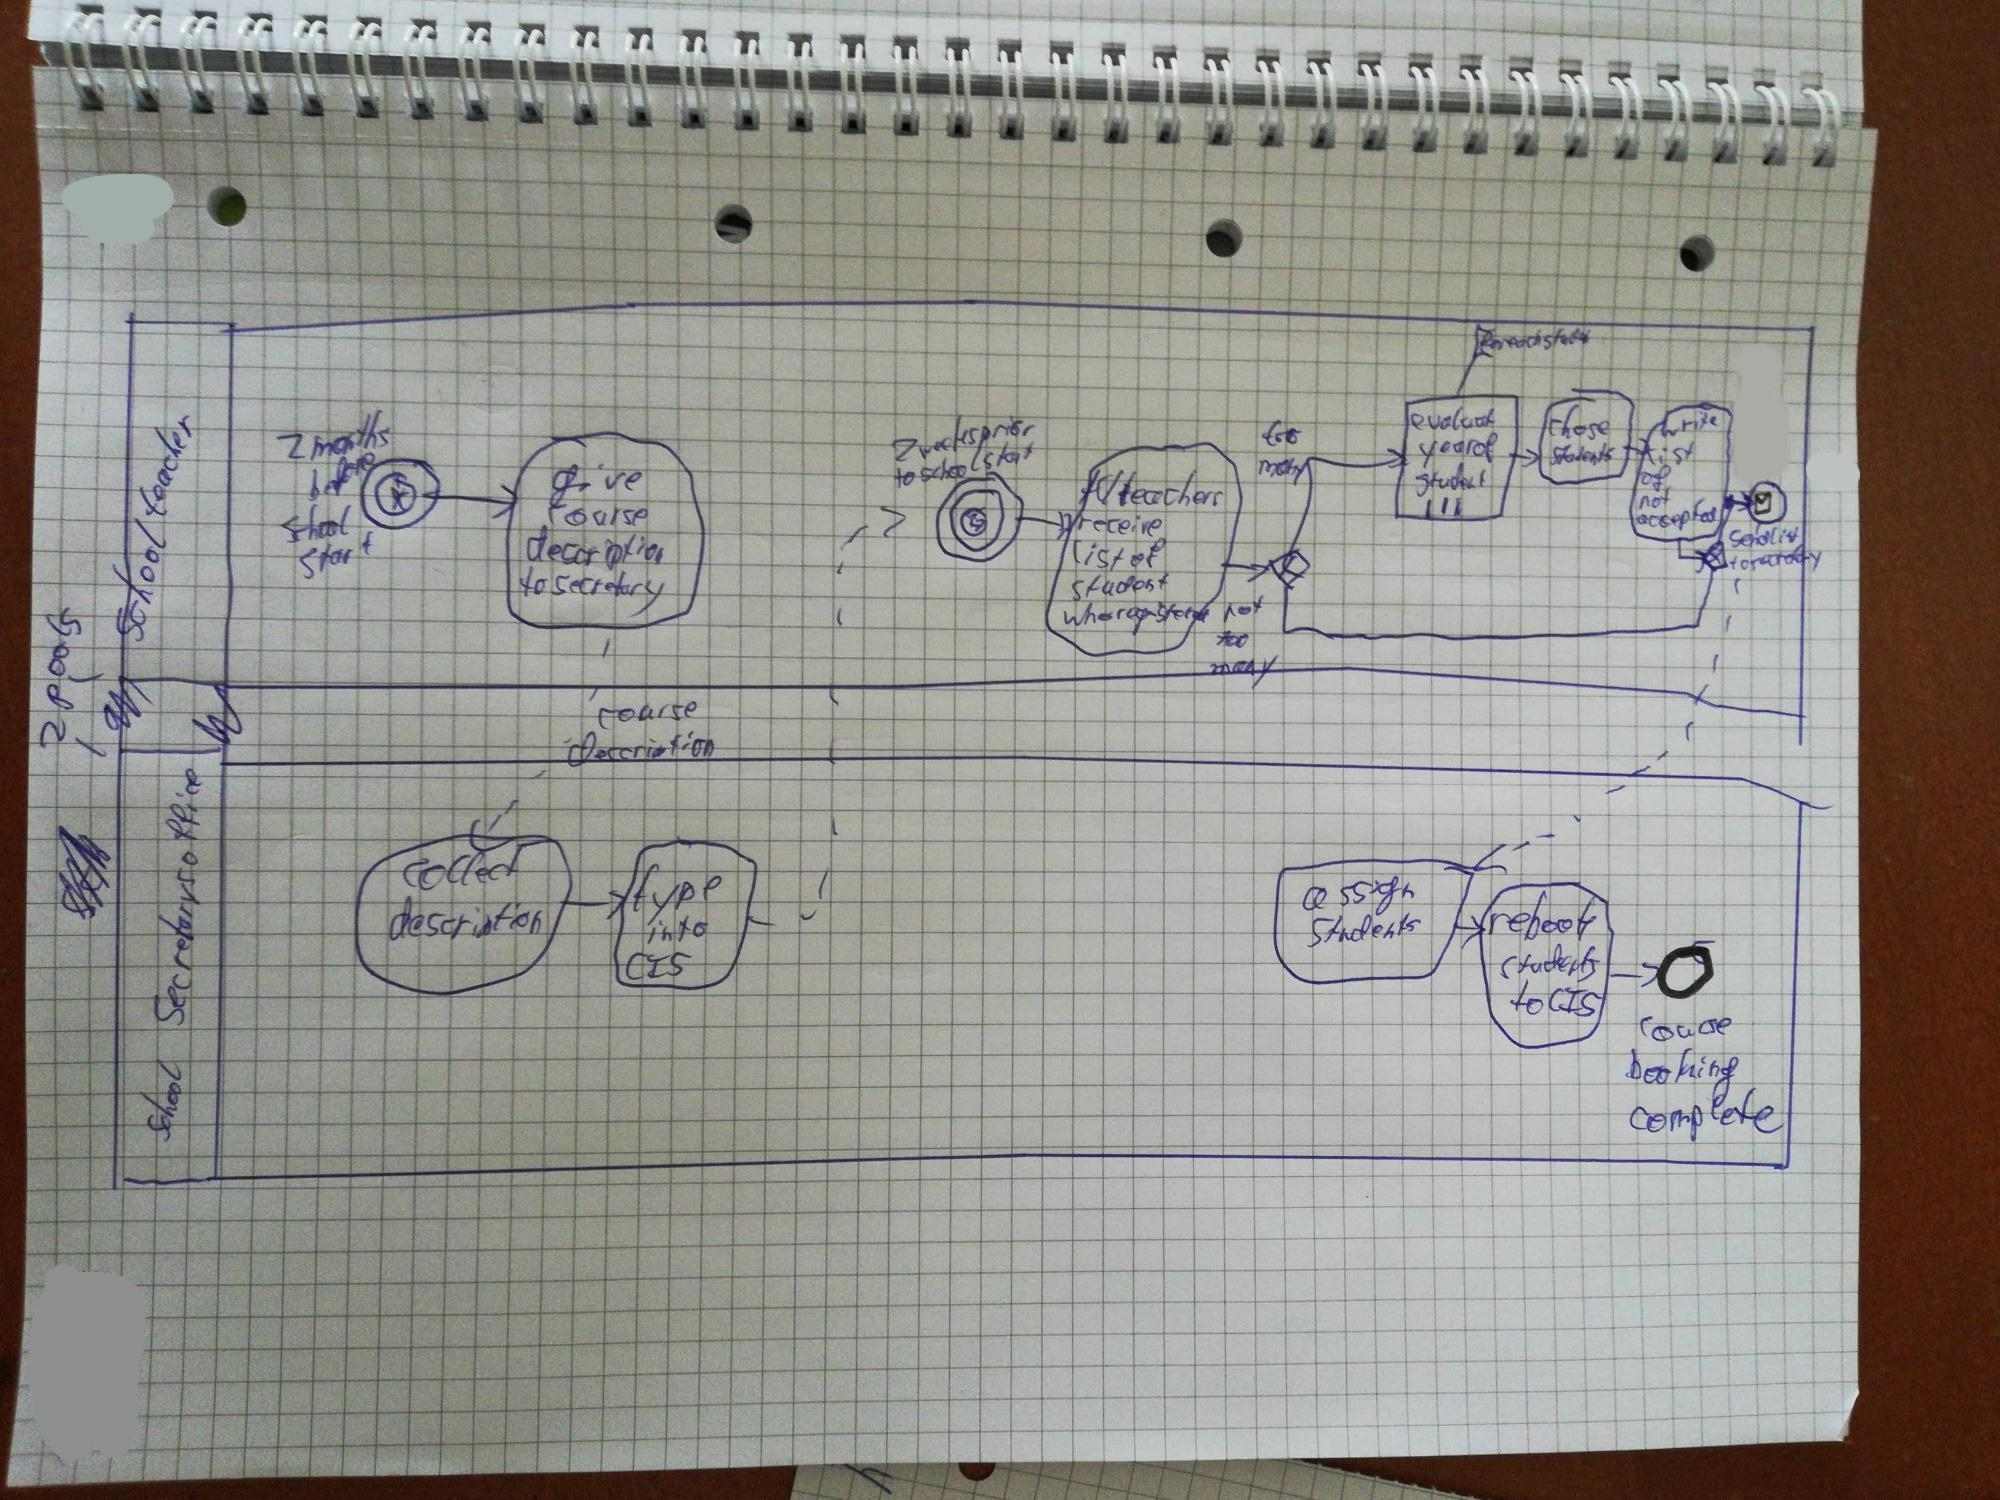2: (277, 427, 304, 466), (890, 435, 921, 465), (40, 719, 68, 748)
CIS: (622, 949, 692, 982), (1546, 985, 1600, 1021)
III: (1421, 494, 1466, 522)
[for: (1475, 325, 1507, 359)
accepted: (1631, 507, 1717, 532)
assign: (1300, 875, 1418, 912)
before: (299, 480, 378, 510)
booking: (1622, 1047, 1741, 1103)
chose: (1547, 403, 1612, 441)
collect: (398, 845, 523, 890)
complete: (1628, 1093, 1779, 1139)
course: (1633, 1010, 1736, 1044), (595, 701, 701, 729), (548, 502, 647, 531)
description: (384, 897, 545, 939), (527, 528, 668, 571), (564, 734, 714, 767)
each: (1508, 331, 1541, 351)
evaluate: (1409, 407, 1501, 434)
give: (549, 462, 643, 506)
into: (646, 919, 710, 942)
list: (1069, 537, 1123, 573), (1640, 437, 1693, 465)
many: (1205, 657, 1278, 684), (1251, 455, 1308, 483)
months: (309, 411, 394, 458)
not: (1222, 593, 1265, 622), (1636, 493, 1672, 510)
of: (1128, 540, 1164, 574), (1642, 462, 1672, 491), (1472, 433, 1497, 464)
office: (166, 767, 201, 869)
pools: (45, 605, 88, 710)
prior: (979, 415, 1042, 438)
rebook: (1487, 892, 1600, 939)
receive: (1077, 508, 1165, 539)
registered: (1113, 599, 1208, 633)
school: (128, 515, 181, 636), (141, 1059, 184, 1148), (284, 502, 354, 543), (918, 456, 982, 490)
secretary: (548, 574, 665, 614), (1752, 546, 1823, 571)
secretarys: (150, 871, 200, 1024)
sendlist: (1730, 523, 1802, 551)
start: (295, 549, 378, 583), (978, 438, 1038, 468)
student: (1068, 569, 1171, 604), (1415, 467, 1490, 496), (1541, 322, 1590, 352)
students: (1498, 946, 1609, 984), (1305, 915, 1424, 949), (1549, 440, 1615, 469)
teacher: (166, 398, 206, 514)
teachers: (1116, 471, 1225, 507)
the: (1088, 464, 1125, 502)
to: (1508, 983, 1543, 1019), (514, 567, 547, 601), (892, 469, 916, 490), (1729, 557, 1751, 573)
too: (1262, 415, 1300, 448), (1215, 624, 1249, 650)
type: (632, 864, 722, 923)
weeks: (918, 418, 980, 451)
who: (1066, 600, 1116, 630)
write: (1660, 415, 1725, 437)
year: (1418, 435, 1476, 469)
